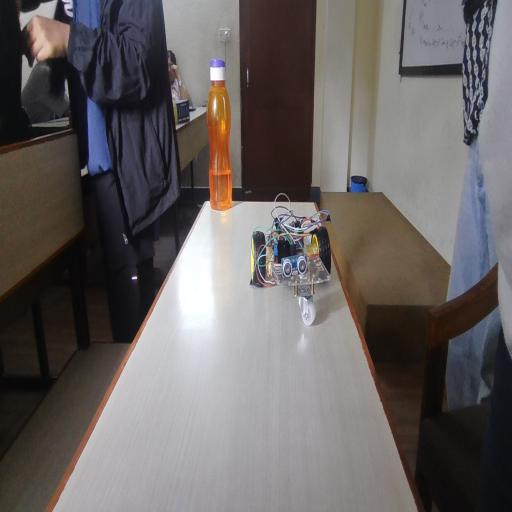Bottle: (199, 51, 251, 227)
car: (249, 204, 347, 322)
